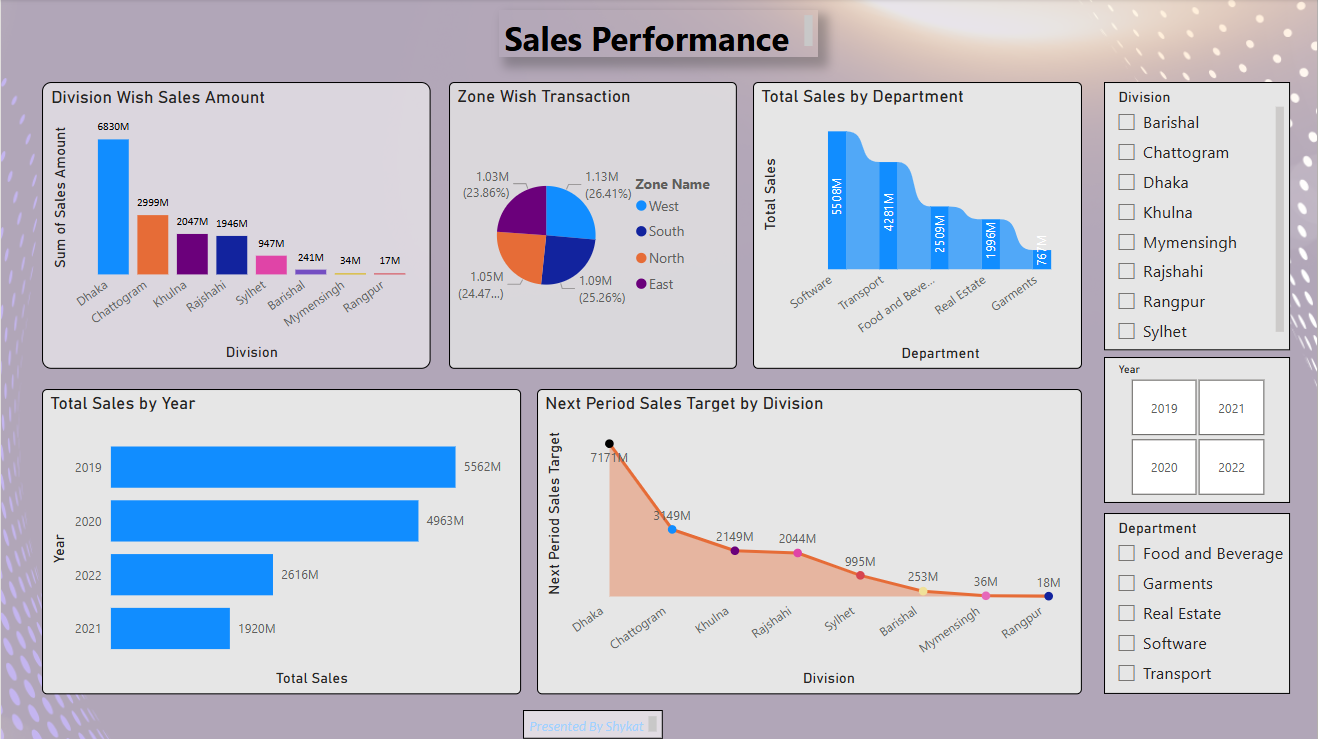

This screenshot's page, from the dashboard's own definition file:
{"tool":"powerbi","page":{"name":"Page 2","canvas":[1280,720],"ordinal":1},"visuals":[{"type":"columnChart","title":"Division Wish Sales Amount","fields":{"Y":["Sum(Sales Data.Sales Amount)"],"Category":["Division.Division"]},"box":[39.9,80.7,378.4,279.1],"z":0},{"type":"pieChart","title":"Zone Wish Transaction","fields":{"Y":["Sales Data.Transaction Wish Vol"],"Category":["Zone.Zone Name"]},"box":[435.7,80.7,280.1,279.1],"z":1000},{"type":"textbox","box":[484.4,10.7,310.3,45.7],"z":2000},{"type":"slicer","fields":{"Values":["Division.Division"]},"box":[1072.8,80.7,180.9,260.7],"z":3000},{"type":"slicer","fields":{"Values":["Sales Data.Year"]},"box":[1072.8,348.2,180.9,142],"z":4000},{"type":"ribbonChart","fields":{"Category":["Sales Data.Department"],"Y":["Sales Data.Total Sales"]},"box":[731.4,80.7,320,279.1],"z":5000},{"type":"areaChart","fields":{"Category":["Division.Division"],"Y":["Sales Data.Next Period Sales Target"]},"box":[521.3,379.3,530.1,296.7],"z":6000},{"type":"clusteredBarChart","fields":{"Category":["Sales Data.Year"],"Y":["Sales Data.Total Sales"]},"box":[39.9,379.3,465.9,296.7],"z":7000},{"type":"slicer","fields":{"Values":["Sales Data.Department"]},"box":[1072.8,499.9,180.9,176],"z":8000},{"type":"textbox","box":[507.7,691.6,136.2,28.2],"z":9000}]}

Visuals, with their boxes in screenshot pixels (x1, y1, x2, y2), scaled from the page's 1280x720 canvas onto the 1318x739 screenshot:
"Division Wish Sales Amount" columnChart: bbox=[41, 83, 431, 369]
"Zone Wish Transaction" pieChart: bbox=[449, 83, 737, 369]
textbox: bbox=[499, 11, 818, 58]
slicer - Division.Division: bbox=[1105, 83, 1291, 350]
slicer - Sales Data.Year: bbox=[1105, 357, 1291, 503]
ribbonChart - Sales Data.Department x Sales Data.Total Sales: bbox=[753, 83, 1083, 369]
areaChart - Division.Division x Sales Data.Next Period Sales Target: bbox=[537, 389, 1083, 694]
clusteredBarChart - Sales Data.Year x Sales Data.Total Sales: bbox=[41, 389, 521, 694]
slicer - Sales Data.Department: bbox=[1105, 513, 1291, 694]
textbox: bbox=[523, 710, 663, 738]
